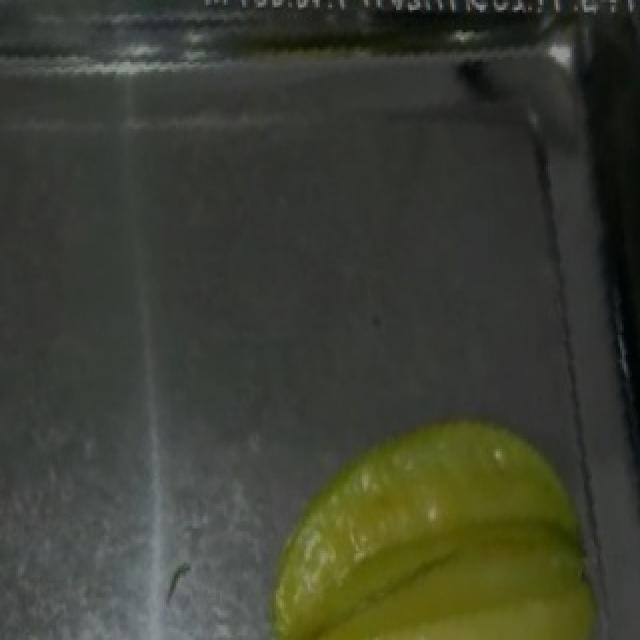fruit: (244, 367, 640, 640)
